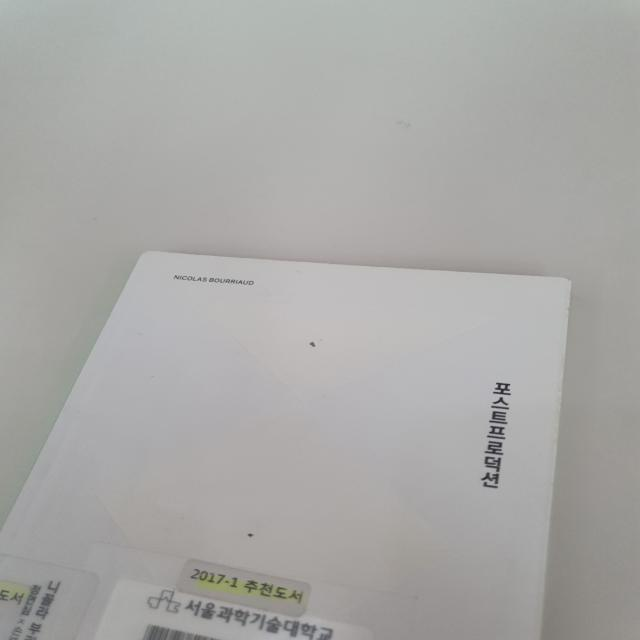Wornout: (160, 246, 246, 267), (517, 273, 575, 286)
